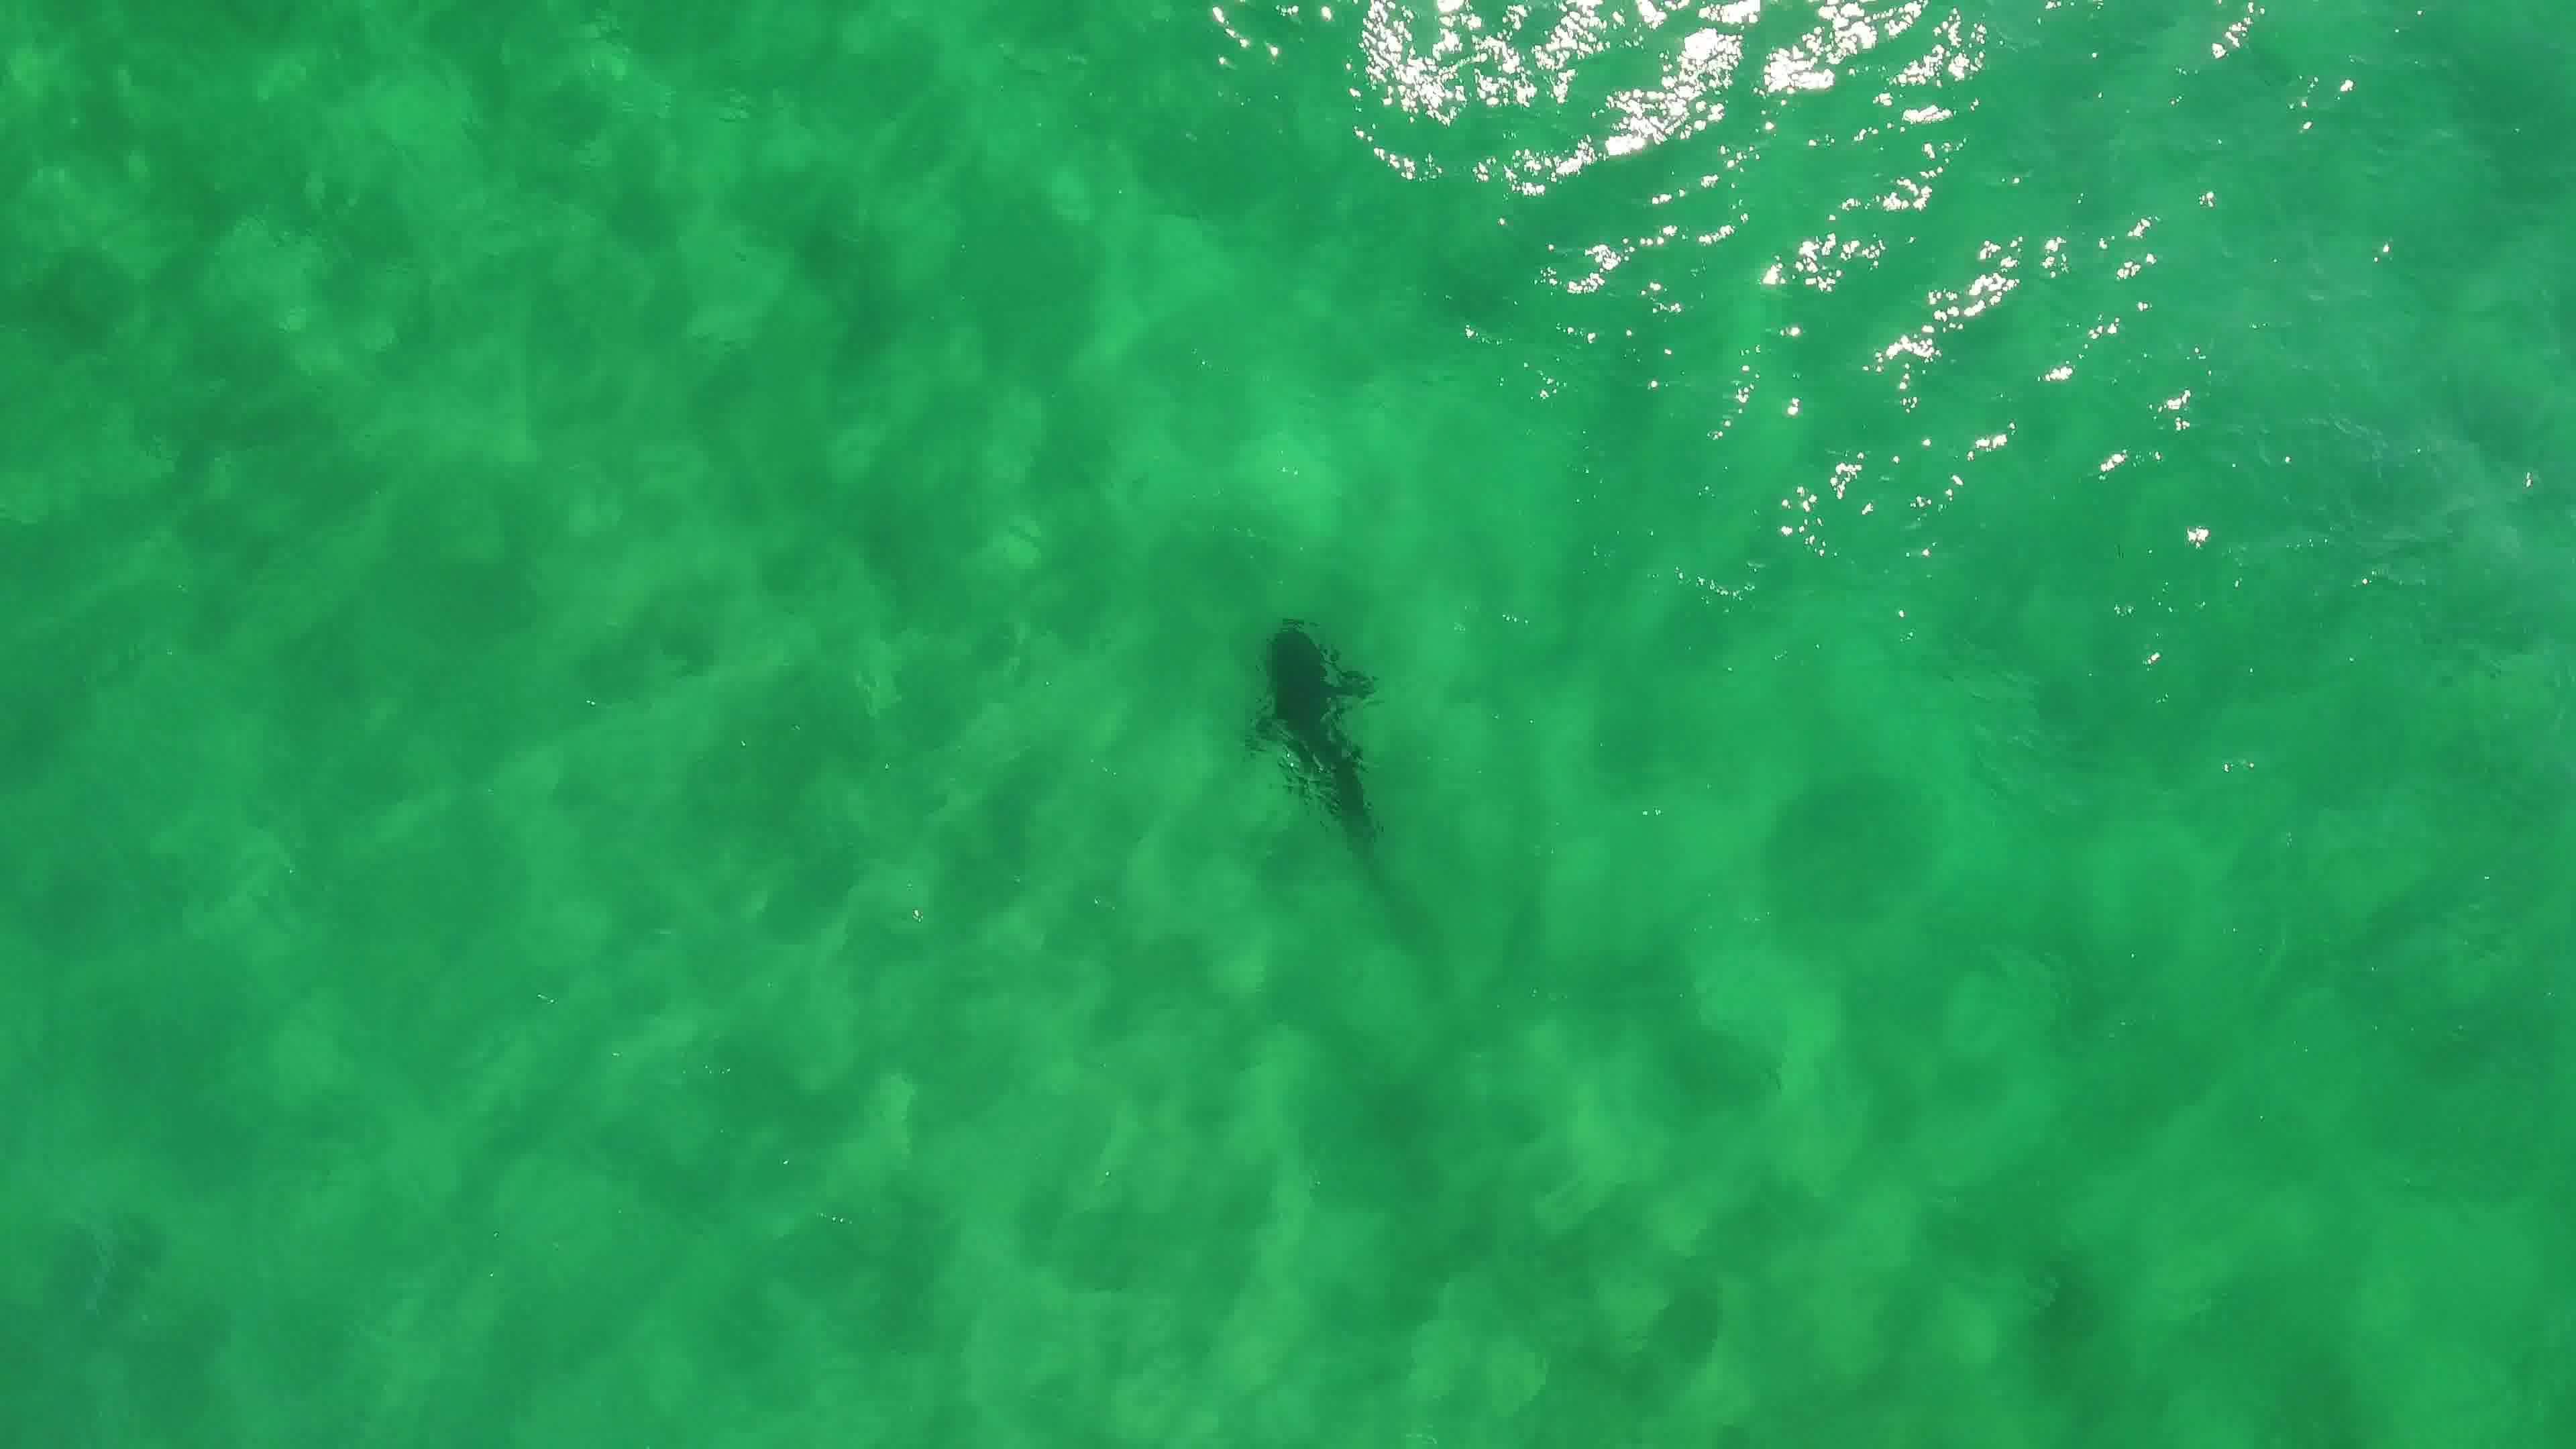shark: (1219, 609, 1394, 862)
